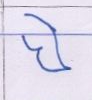o_matra: (47, 16, 66, 75)
